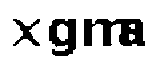a: (119, 15, 150, 52)
g: (46, 16, 83, 60)
m: (82, 16, 132, 51)
x: (10, 16, 42, 50)
